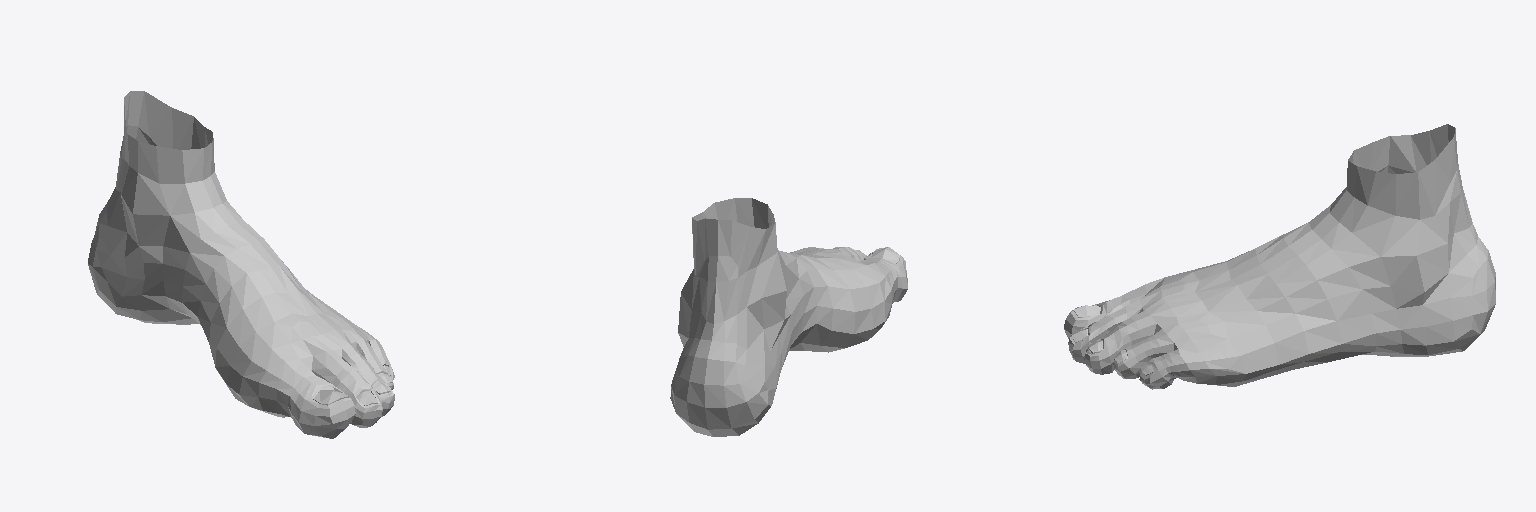
File: foot_ex.obj
3 renders of one model, left to right at view 1: azimuth 30°, elevation 25°; view 2: azimuth 150°, elevation 25°; view 3: azimuth 270°, elevation 25°, orthographic.
Size of the model in its own units: 7.35 by 9.83 by 17.56.